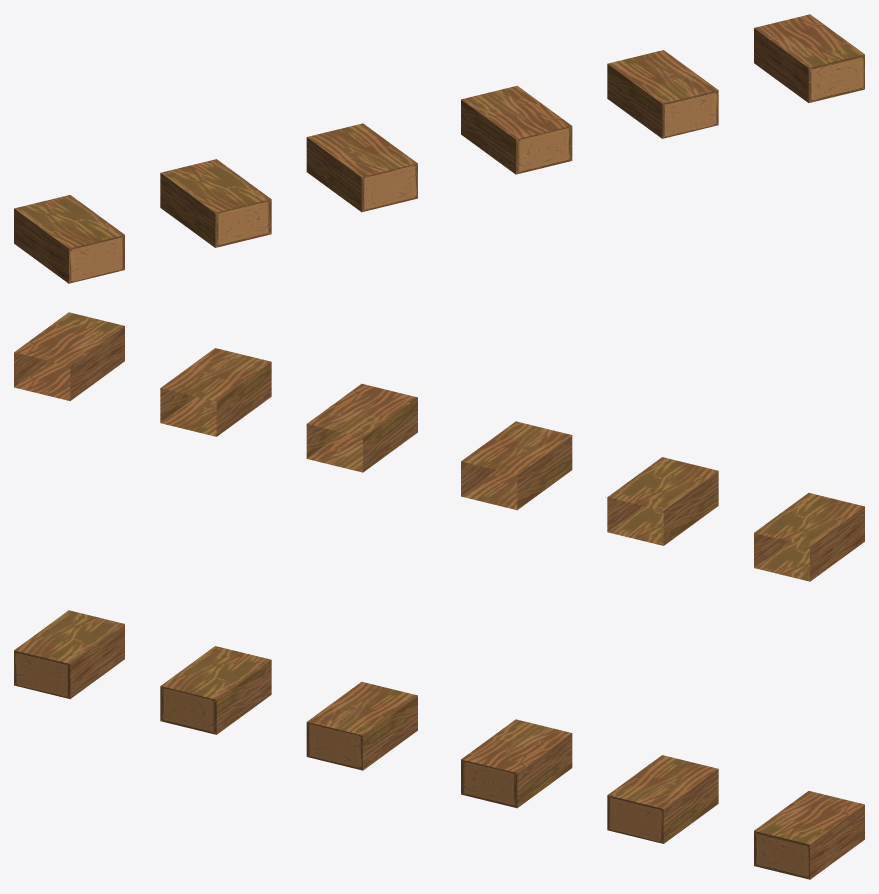
File: Roof_FrontSupports.gltf
3 views of the same model, one above another, from view 1: azimuth 30°, elevation 25°; view 2: azimuth 150°, elevation 25°; view 3: azimuth 330°, elevation 25° (orthographic).
Visible parts, largest first — view 1: Roof_FrontSupports; view 2: Roof_FrontSupports; view 3: Roof_FrontSupports.
Part boxes in pixels (left/top/right/bottom): Roof_FrontSupports: left=14, top=14, right=864, bottom=283; Roof_FrontSupports: left=14, top=312, right=864, bottom=581; Roof_FrontSupports: left=14, top=610, right=864, bottom=879.
Bounding box in the file's own units: 5.49 × 0.2312 × 0.6545.
Materials: 1 (1 with a texture image).
